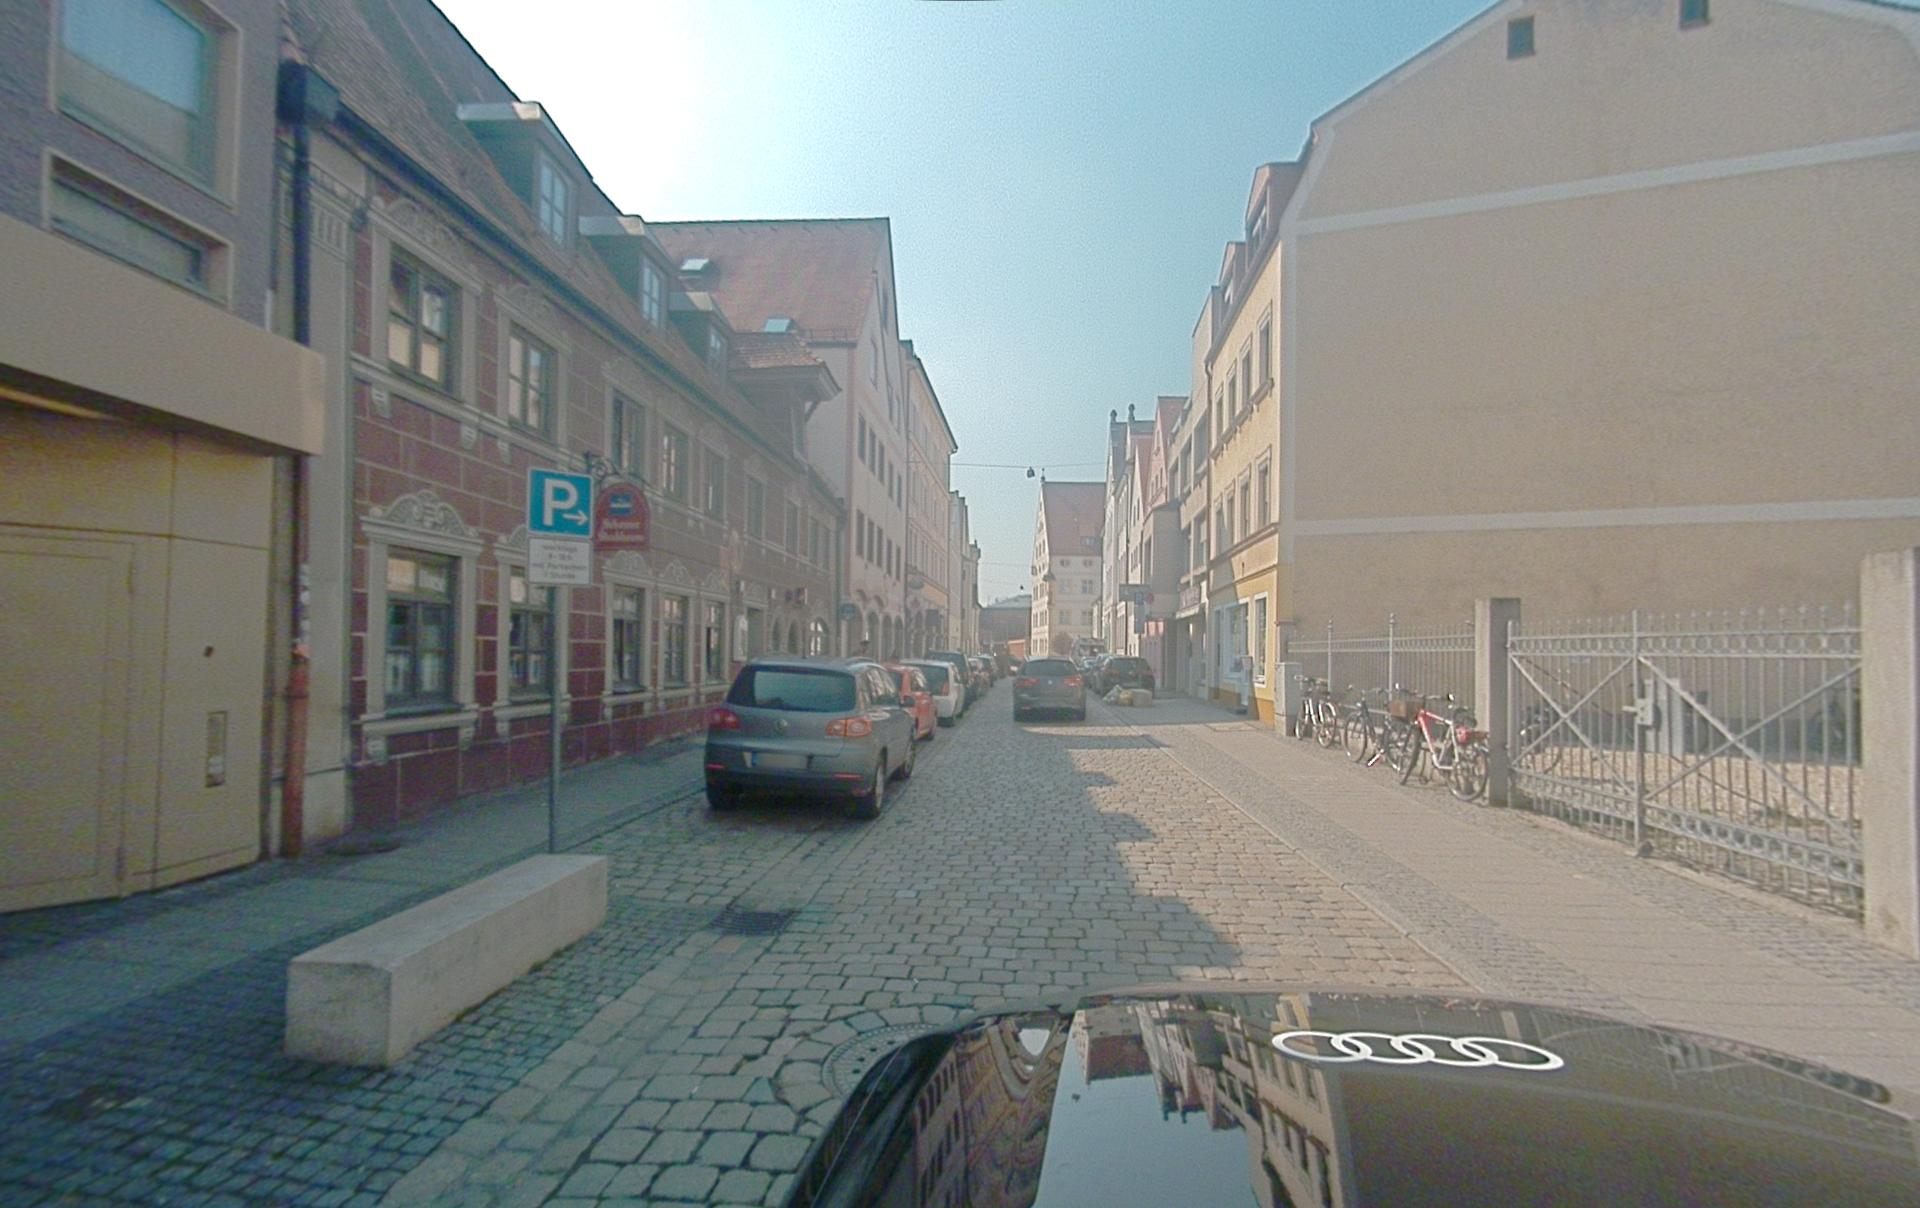car: (778, 984, 1919, 1207), (704, 657, 917, 819), (1012, 657, 1086, 722), (901, 661, 966, 726), (885, 664, 938, 742), (1096, 656, 1155, 705)
traffic sign: (527, 467, 593, 539), (594, 480, 650, 549)
